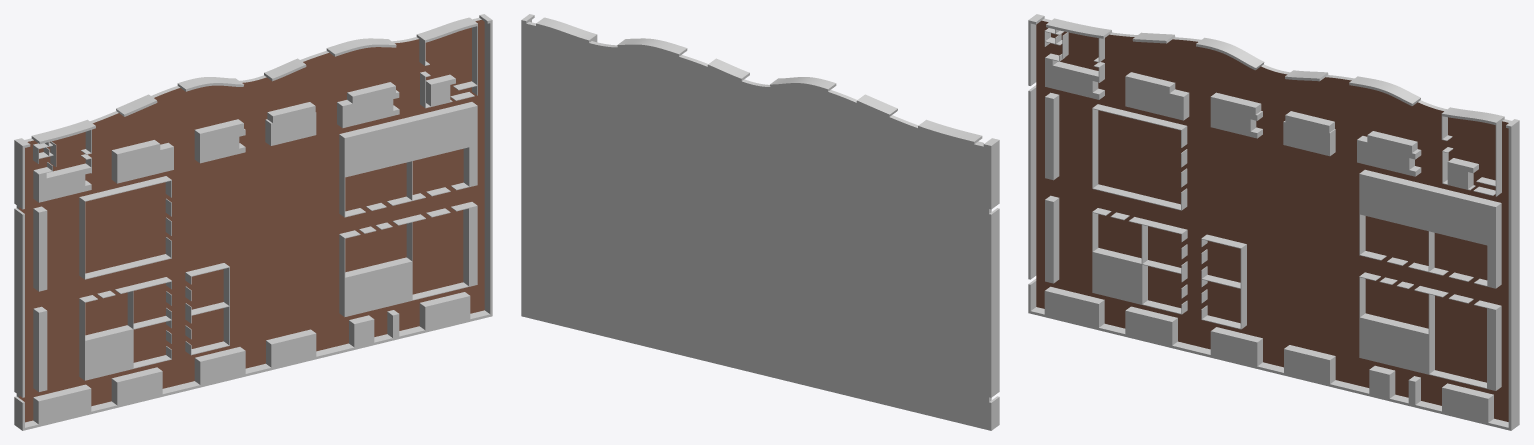
The model's file is Hall 8.gltf.
The picture shows the model from 3 angles, left to right: view 1: azimuth 30°, elevation 25°; view 2: azimuth 150°, elevation 25°; view 3: azimuth 330°, elevation 25°; orthographic projection. The views are drawn at different scales.
Visible parts, largest first — view 1: Hall 8; view 2: Hall 8; view 3: Hall 8.
Part boxes in pixels (<box>): Hall 8: <box>14,14,492,430</box>; Hall 8: <box>521,14,999,430</box>; Hall 8: <box>1028,14,1519,430</box>.
Bounding box in the file's own units: 196 × 120 × 6.
